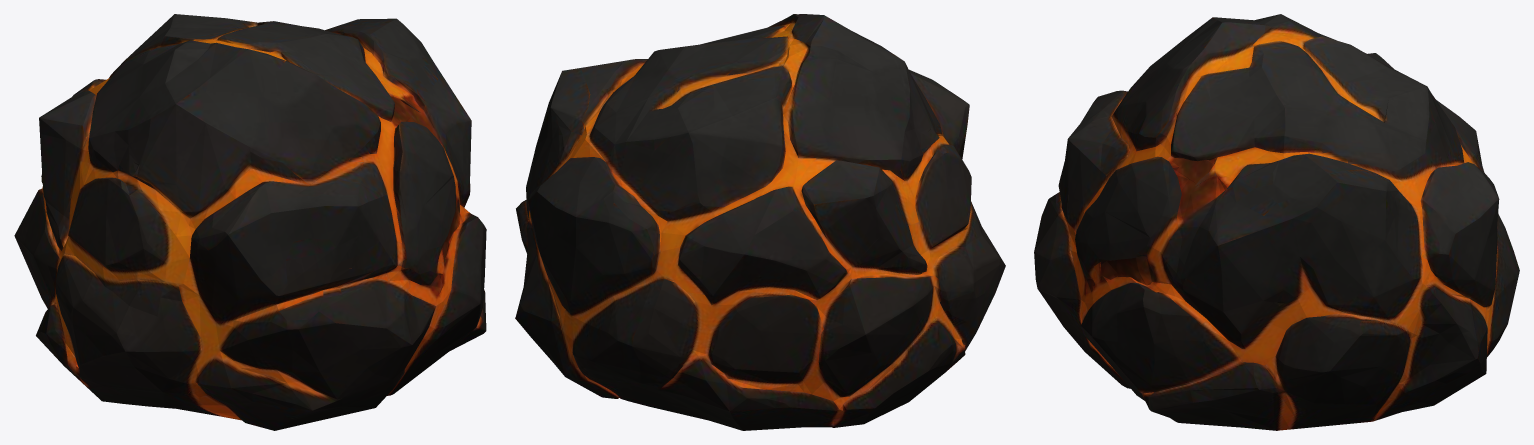
The model's file is braises_rocher_lave.glb.
3 renders of one model, left to right at view 1: azimuth 30°, elevation 25°; view 2: azimuth 150°, elevation 25°; view 3: azimuth 270°, elevation 25°, orthographic. The views are drawn at different scales.
Parts seen in each view (by area): view 1: geometry_0; view 2: geometry_0; view 3: geometry_0.
Boxes of the visible parts, x1,y1,x2,y2 form: geometry_0: (14,14,486,430); geometry_0: (515,14,1005,430); geometry_0: (1034,14,1519,430).
Size of the model in its own units: 0.9539 by 0.7598 by 0.9924.
1 material, 1 textured.
